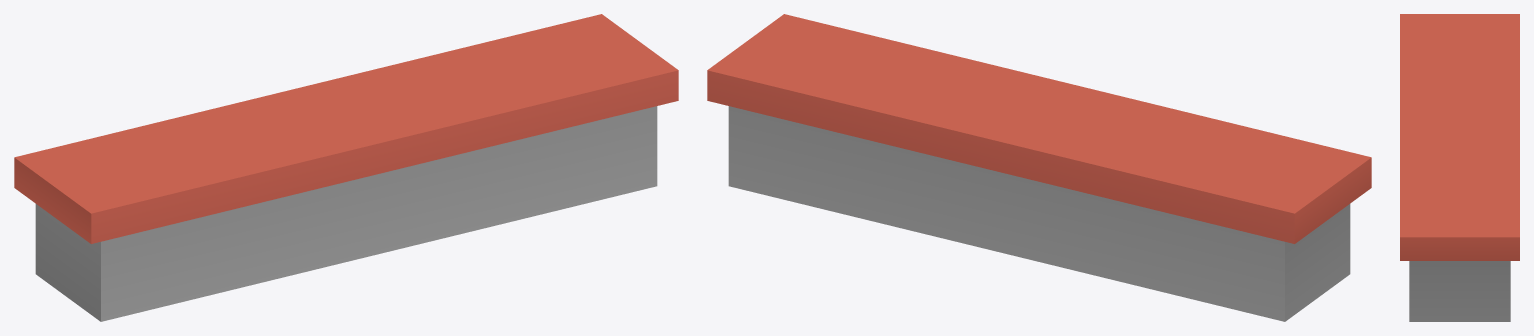
File: Bench2.glb
3 renders of one model, left to right at view 1: azimuth 30°, elevation 25°; view 2: azimuth 150°, elevation 25°; view 3: azimuth 270°, elevation 25°, orthographic. The views are drawn at different scales.
Visible parts, largest first — view 1: SI_Prop_Bench_02; view 2: SI_Prop_Bench_02; view 3: SI_Prop_Bench_02.
Boxes of the visible parts, x1,y1,x2,y2 form: SI_Prop_Bench_02: (14,14,678,321); SI_Prop_Bench_02: (707,14,1371,321); SI_Prop_Bench_02: (1400,14,1519,321).
Bounding box in the file's own units: 0.0441 × 0.00835 × 0.01.
1 material, 1 textured.
